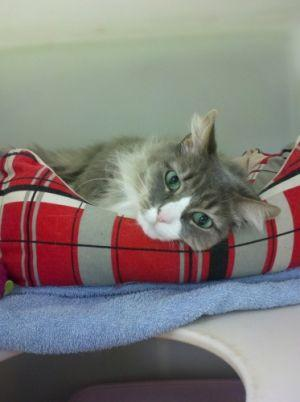ragdoll: (107, 105, 293, 276)
